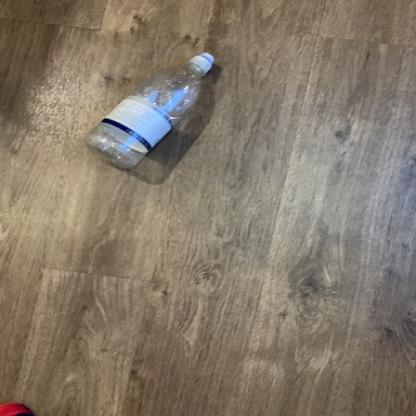trash: (79, 52, 216, 171)
